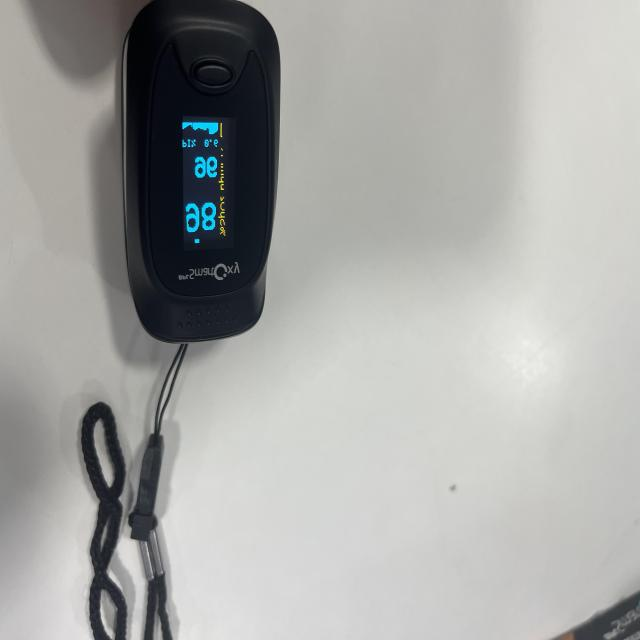spo2: (121, 0, 281, 345)
